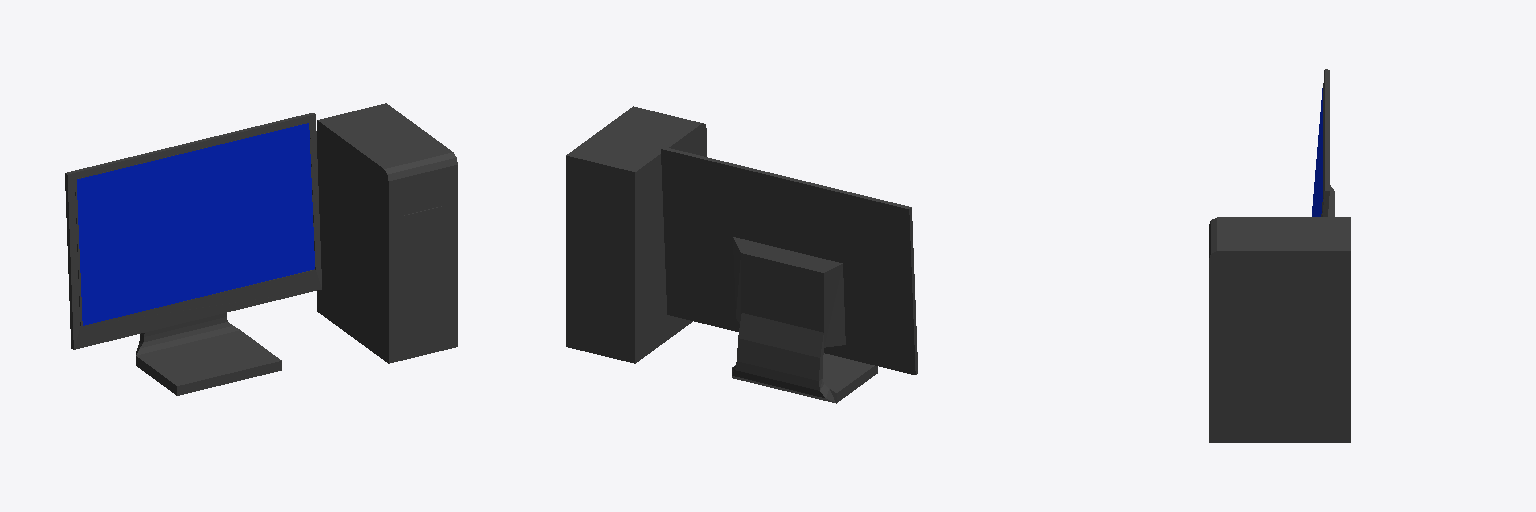
File: computer.obj
3 views of the same model, side by side, from view 1: azimuth 30°, elevation 25°; view 2: azimuth 150°, elevation 25°; view 3: azimuth 270°, elevation 25° (orthographic).
Parts seen in each view (by area): view 1: Cube.003, Fläche.001; view 2: Cube.003; view 3: Cube.003, Fläche.001.
Part boxes in pixels (x1,y1,x2,y2): Cube.003: (65,103,457,395); Fläche.001: (77,123,314,325); Cube.003: (566,106,917,403); Cube.003: (1209,69,1350,442); Fläche.001: (1312,88,1322,216).
Bounding box in the file's own units: 5.37 × 3.26 × 2.